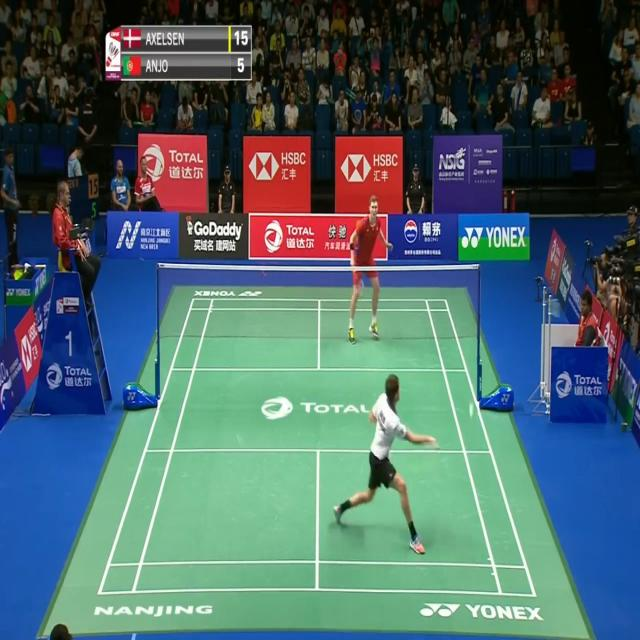Player1: (328, 366, 441, 561)
Player2: (341, 190, 394, 346)
